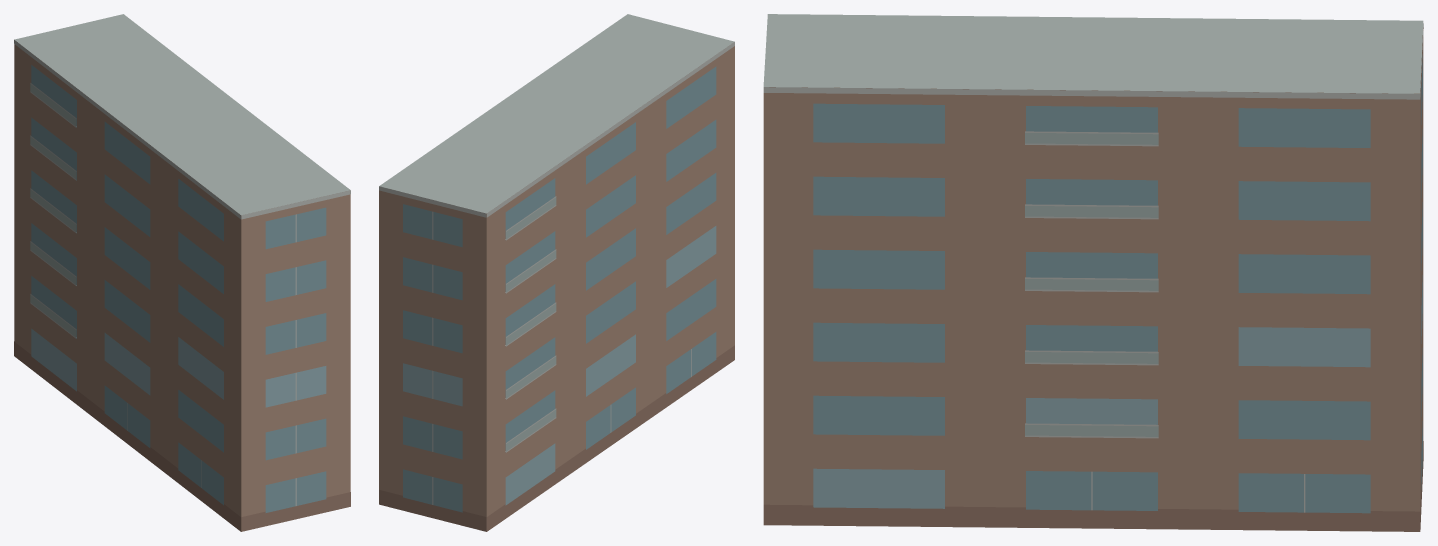
Rendered from survey-upis-32775338.glb.
3 views of the same model, side by side, from view 1: azimuth 30°, elevation 25°; view 2: azimuth 150°, elevation 25°; view 3: azimuth 270°, elevation 25° (orthographic). The views are drawn at different scales.
Parts seen in each view (by area): view 1: survey-upis-32775338.tmp; view 2: survey-upis-32775338.tmp; view 3: survey-upis-32775338.tmp.
Part boxes in pixels (<box>): survey-upis-32775338.tmp: <box>14,14,350,531</box>; survey-upis-32775338.tmp: <box>379,14,734,531</box>; survey-upis-32775338.tmp: <box>763,14,1423,531</box>.
Size of the model in its own units: 7.16 by 18.3 by 24.99.
